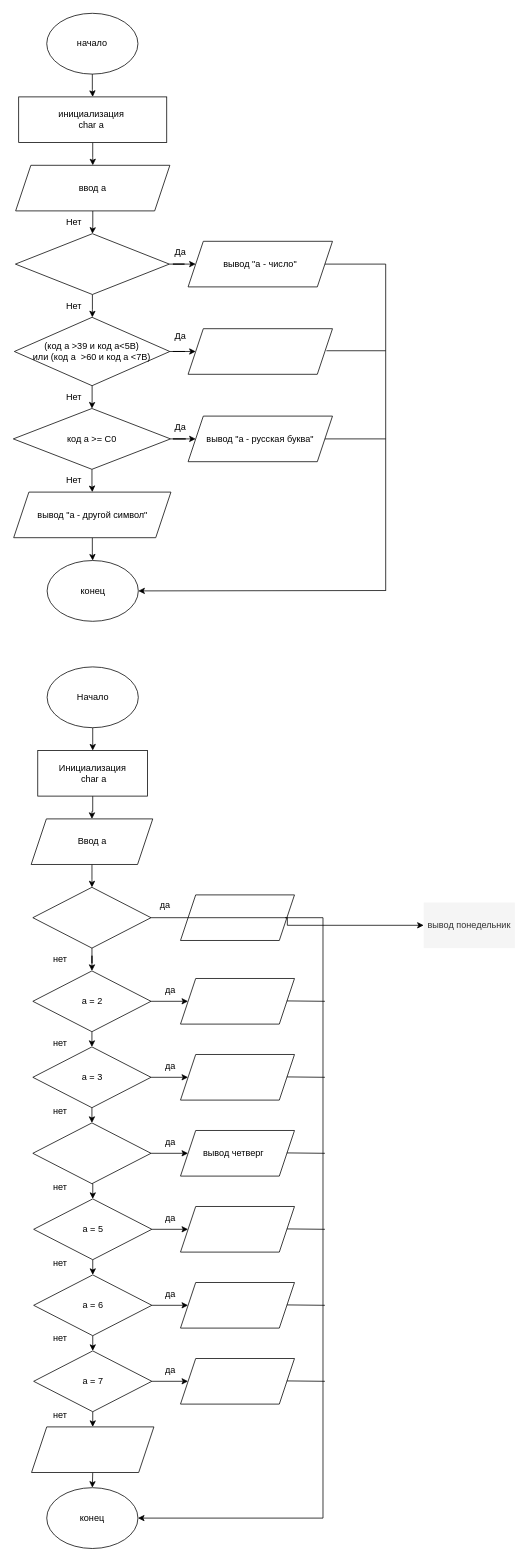
Some shapes in this 528 by 1562 pixel diagram are drawn without their labels. Here are the shapes that lost their labels. From the top down, the centre of each, then its label:
point 92,263: код а > 29 и код а < 40
point 259,351: вывод "а - латинская буква"
point 91,917: a = 1
point 233,1001: вывод вторник
point 233,1077: вывод среда
point 91,1153: а = 4
point 233,1229: вывод пятница
point 233,1305: вывод суббота
point 233,1381: вывод воскресенье
point 92,1449: вывод неверное число
